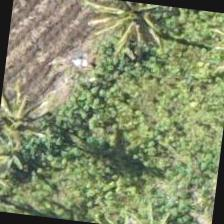Kelapa_Sawit: (0, 65, 78, 164)
